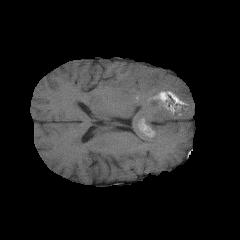glioma: (109, 66, 191, 145)
